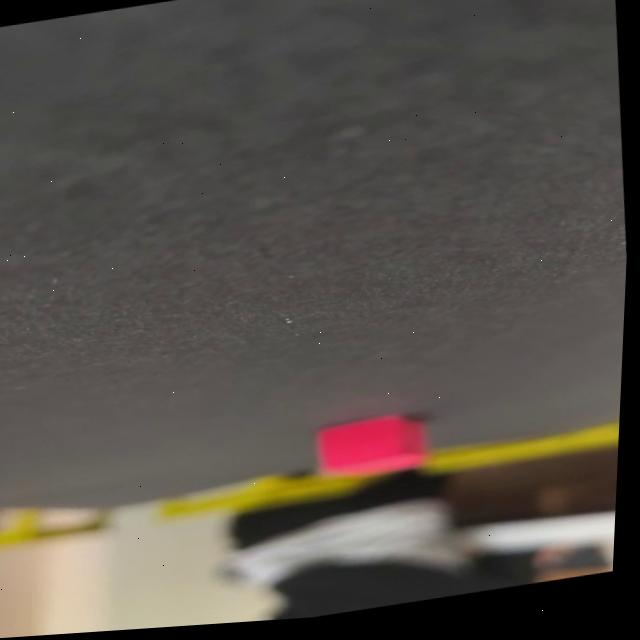red block: (311, 408, 435, 485)
